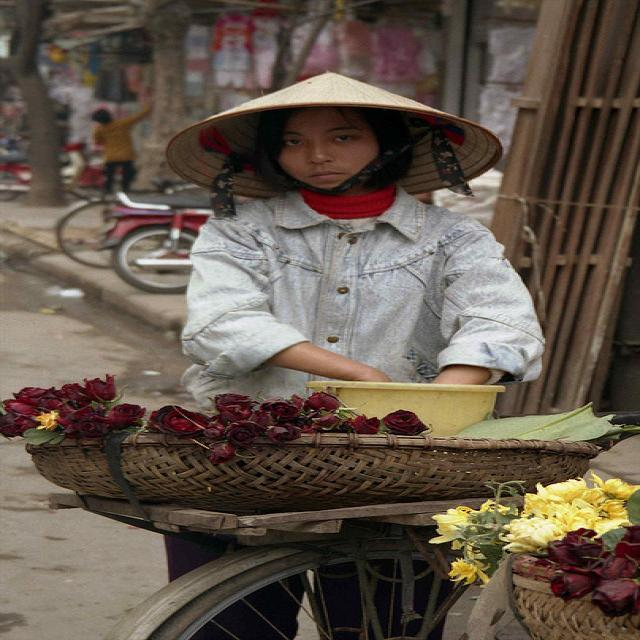motor: (92, 191, 214, 295)
